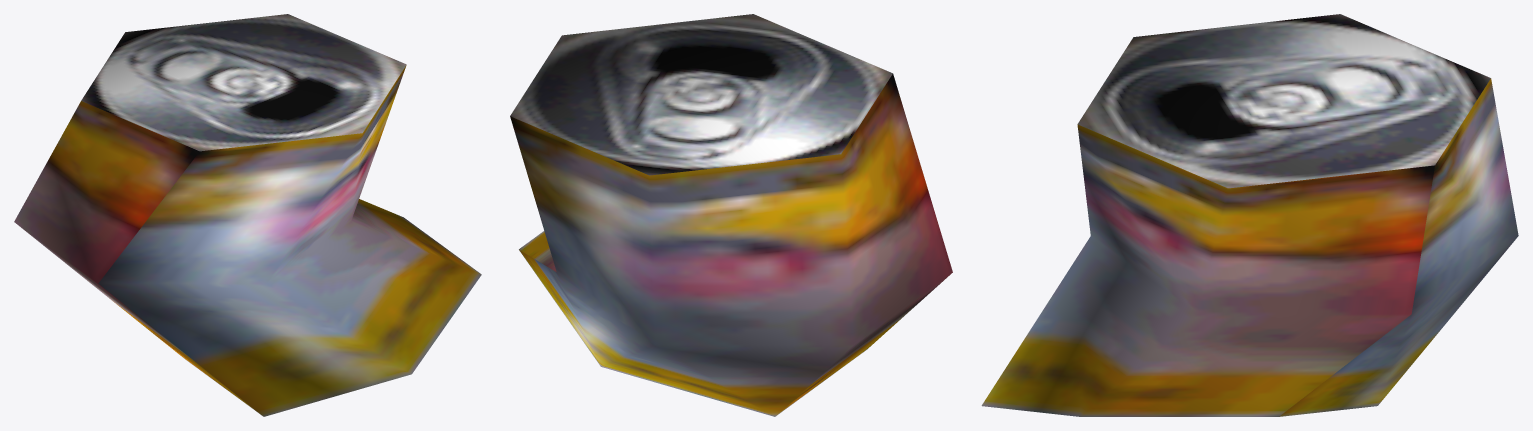
Rendered from can_2_crushed.glb.
3 views of the same model, side by side, from view 1: azimuth 30°, elevation 25°; view 2: azimuth 150°, elevation 25°; view 3: azimuth 270°, elevation 25° (orthographic). The views are drawn at different scales.
Parts seen in each view (by area): view 1: Can_2_Crushed; view 2: Can_2_Crushed; view 3: Can_2_Crushed.
Part boxes in pixels (bbox=[...]): Can_2_Crushed: bbox=[14, 14, 481, 416]; Can_2_Crushed: bbox=[510, 14, 952, 416]; Can_2_Crushed: bbox=[981, 14, 1518, 416].
Size of the model in its own units: 0.2613 by 0.193 by 0.2837.
Materials: 1 (1 with a texture image).
